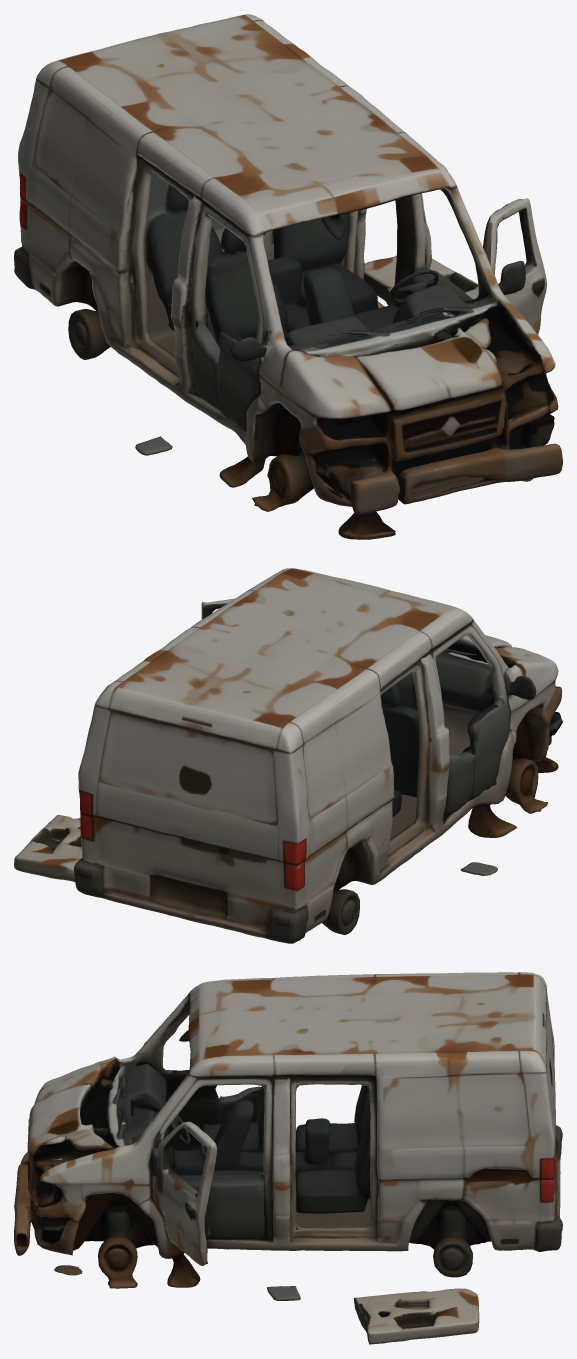
File: SM_Vehicle_WreckedVan_01.fbx
3 renders of one model, top to bottom at view 1: azimuth 30°, elevation 25°; view 2: azimuth 150°, elevation 25°; view 3: azimuth 270°, elevation 25°, orthographic. The views are drawn at different scales.
Parts seen in each view (by area): view 1: SM_Vehicle_WreckedVan_01; view 2: SM_Vehicle_WreckedVan_01; view 3: SM_Vehicle_WreckedVan_01.
Part boxes in pixels (x1,y1,x2,y2): SM_Vehicle_WreckedVan_01: (14,14,562,539); SM_Vehicle_WreckedVan_01: (14,568,562,943); SM_Vehicle_WreckedVan_01: (14,972,562,1344).
Size of the model in its own units: 0.7596 by 0.4552 by 0.9973.
Materials: 1 (1 with a texture image).
